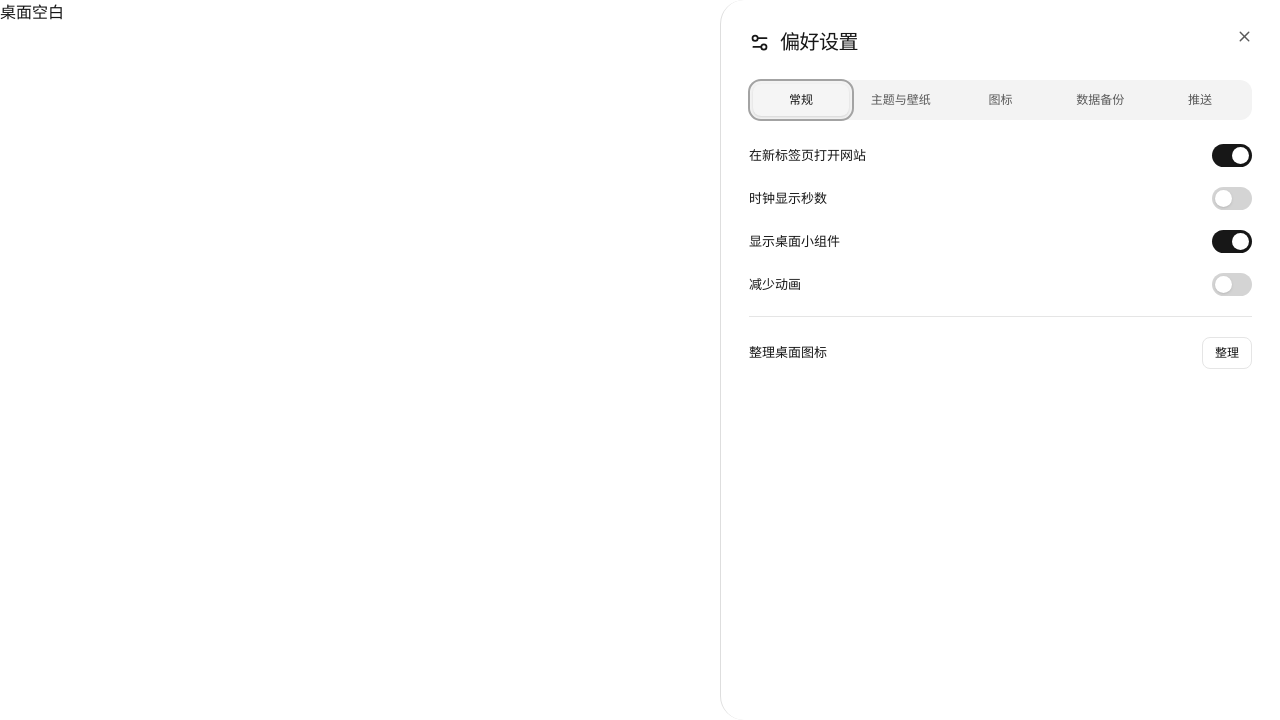
Test: 桌面右键的完整操作流程 › 网格有焦点时，打开设置并等待菜单关闭后，面板持续显示且持有焦点；重复三次
This screenshot has width=1280, height=720.
Earlier steps of the test are not shown.
Check: the heading "偏好设置" is shown, box [749,30,858,54]
Click the button named "关闭弹窗": click(1244, 36) [1228,20,1260,52]
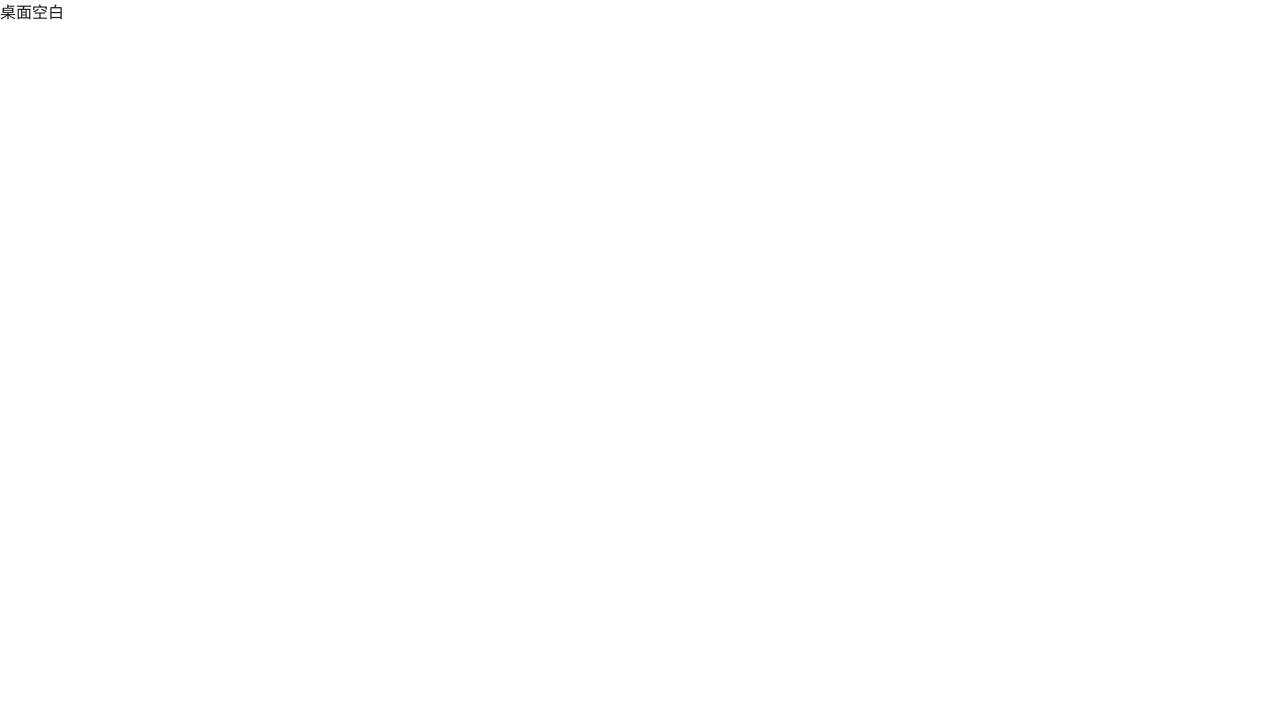
Check: the heading "偏好设置" is gone
